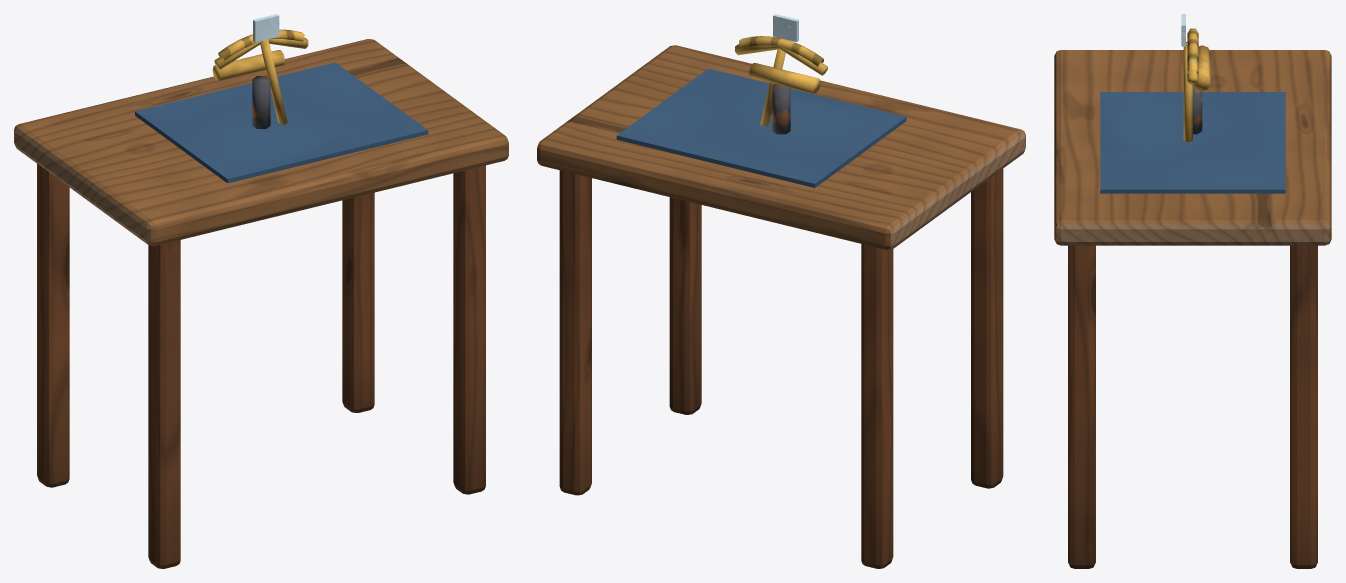
Rendered from sextant.glb.
3 renders of one model, left to right at view 1: azimuth 30°, elevation 25°; view 2: azimuth 150°, elevation 25°; view 3: azimuth 270°, elevation 25°, orthographic.
Visible parts, largest first — view 1: SextantTable; view 2: SextantTable; view 3: SextantTable.
Boxes of the visible parts, x1,y1,x2,y2 form: SextantTable: [14, 14, 508, 568]; SextantTable: [537, 14, 1025, 568]; SextantTable: [1054, 14, 1331, 568].
Size of the model in its own units: 0.9 by 1.12 by 0.6.
1 material, 1 textured.
